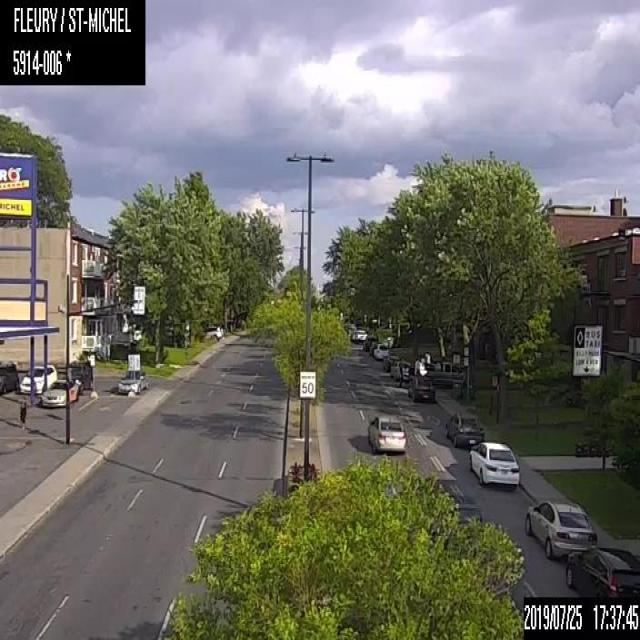pedestrian: (19, 396, 26, 428), (398, 364, 403, 385)
vehicle: (524, 498, 597, 560), (565, 546, 639, 596), (468, 441, 520, 488), (366, 415, 406, 453), (444, 412, 484, 447), (423, 360, 465, 388), (19, 363, 57, 393), (41, 379, 78, 404), (67, 362, 93, 394), (116, 368, 148, 393), (407, 376, 435, 401), (0, 360, 18, 392), (390, 360, 410, 381), (373, 342, 388, 360), (204, 325, 222, 340), (362, 336, 376, 351), (368, 340, 381, 356), (351, 328, 364, 341), (356, 331, 368, 343)
